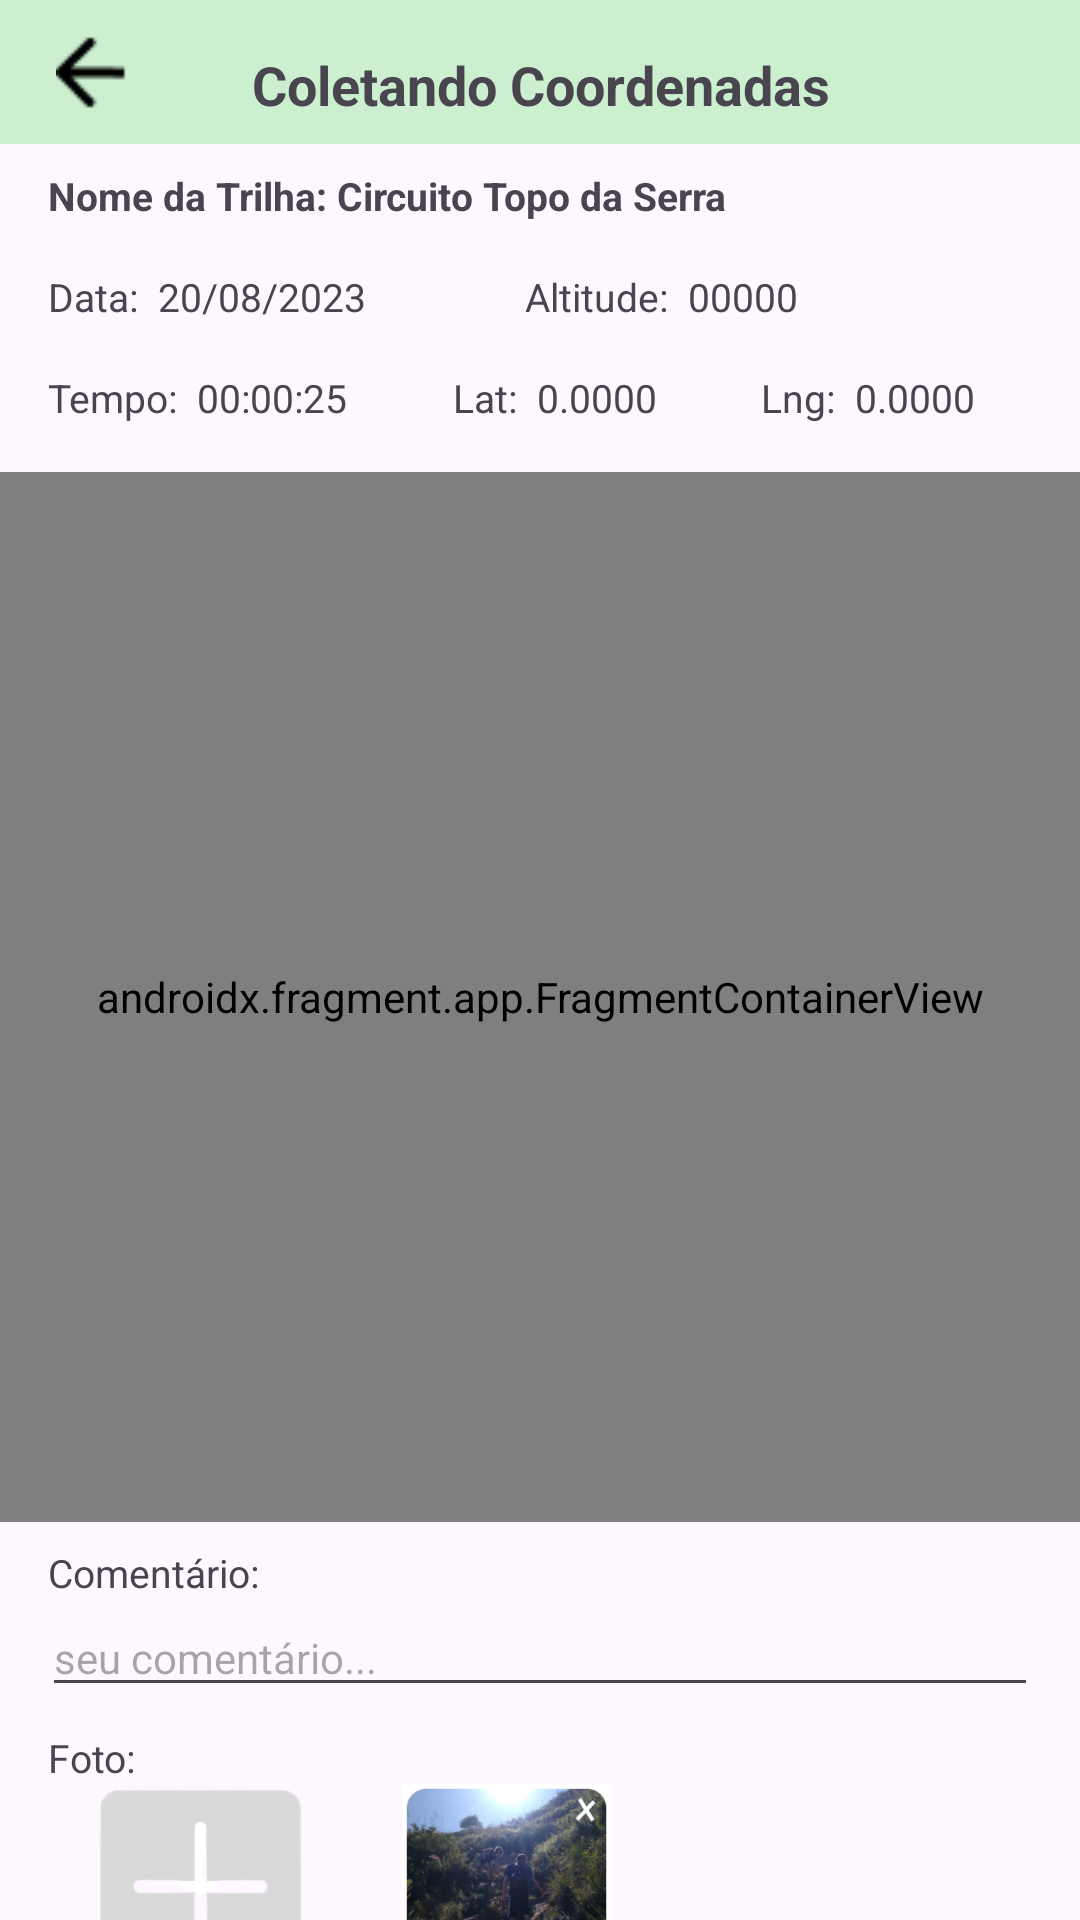

Named icons in this screenshot (1080×1920) and their bounding boxes, (x1, y1, x2, y2):
voltar: (56, 37, 126, 108)
